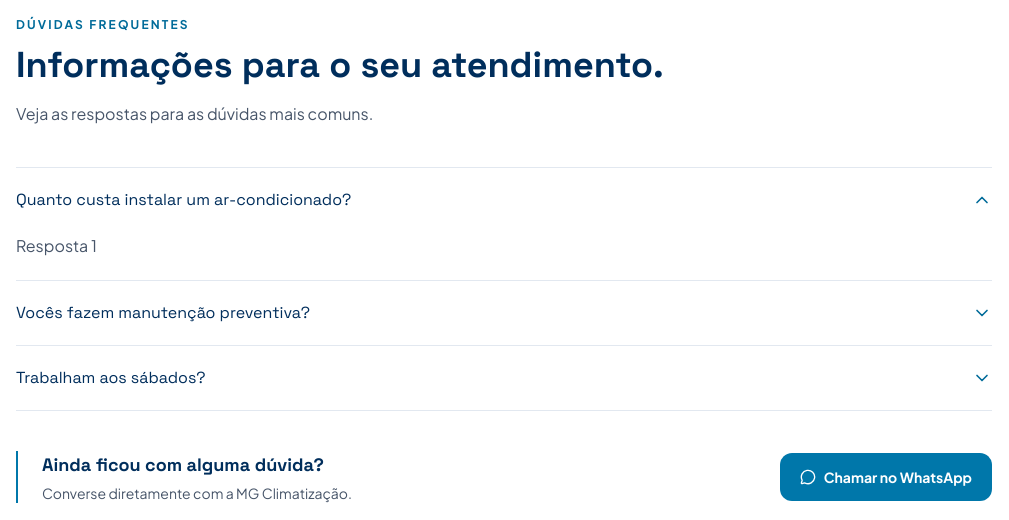
Test: FAQ Component › toggles expansion state when questions are clicked
Expected: the text "Quanto custa instalar um ar-condicionado?" is shown, [16,187,351,213]
Note: Click the second FAQ to open it
Click the button "Vocês fazem manutenção preventiva?" at (163, 313), box [16,281,992,345]
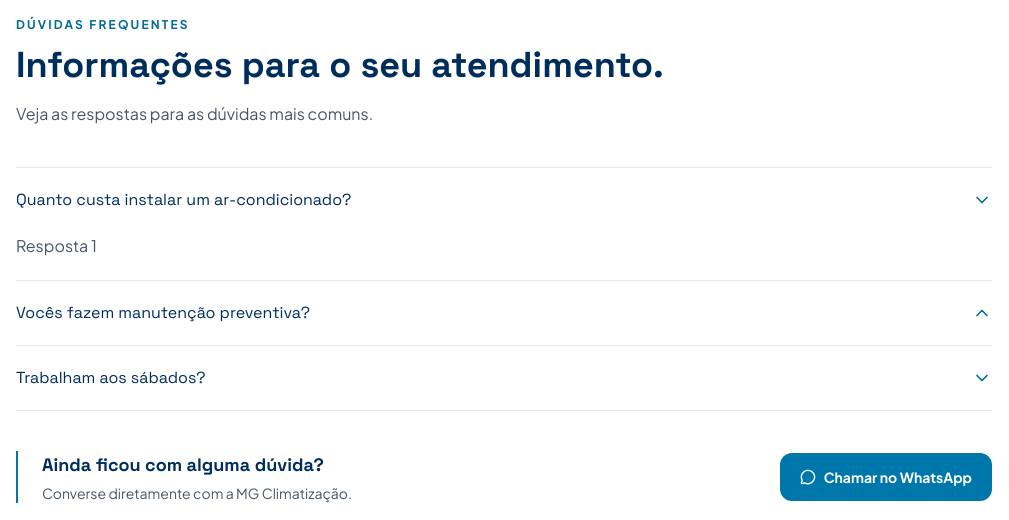
Expected: the button "Vocês fazem manutenção preventiva?" is expanded
Expected: the button "Quanto custa instalar um ar-condicionado?" is collapsed, [16,168,992,232]
Note: Click the second FAQ again to close it
Click the button "Vocês fazem manutenção preventiva?" at (163, 313), box [16,281,992,345]
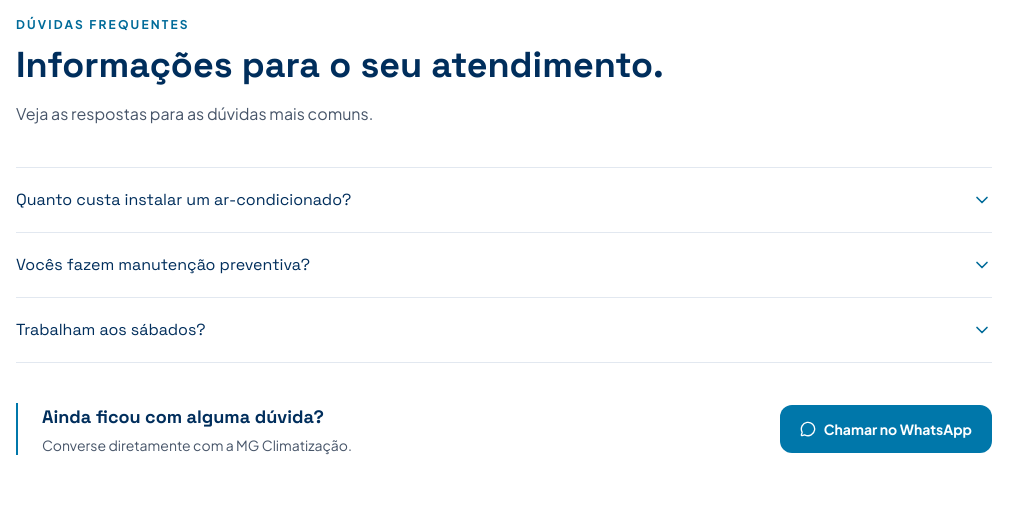
Expected: the button "Vocês fazem manutenção preventiva?" is collapsed, [16,233,992,297]
